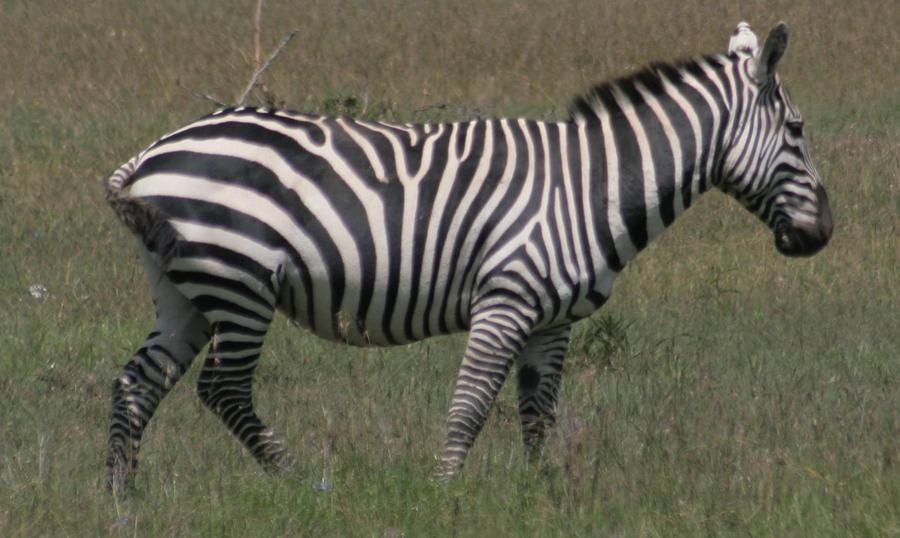zebra_plains: (154, 82, 620, 362)
